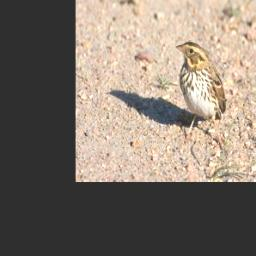Sparrow: (174, 38, 228, 151)
